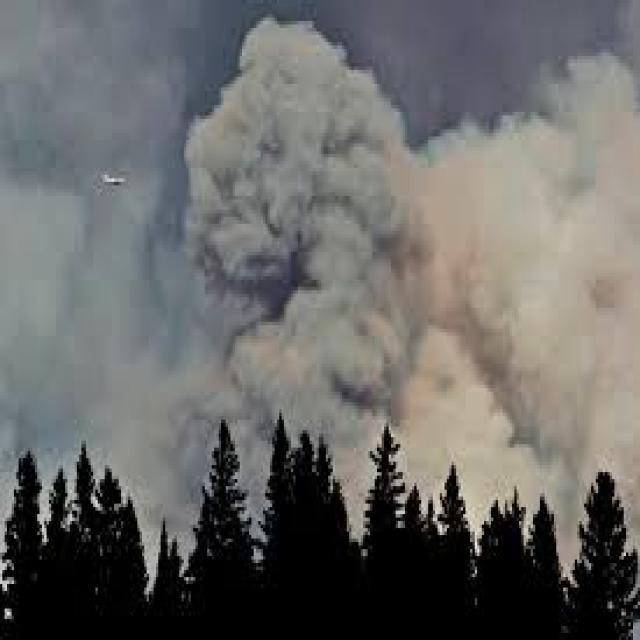Smoke: (106, 11, 640, 466)
